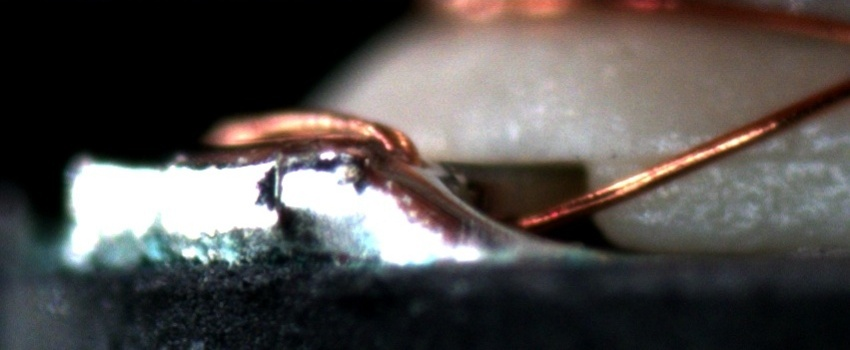DL: (623, 126, 849, 190)
TE: (193, 111, 431, 166)
